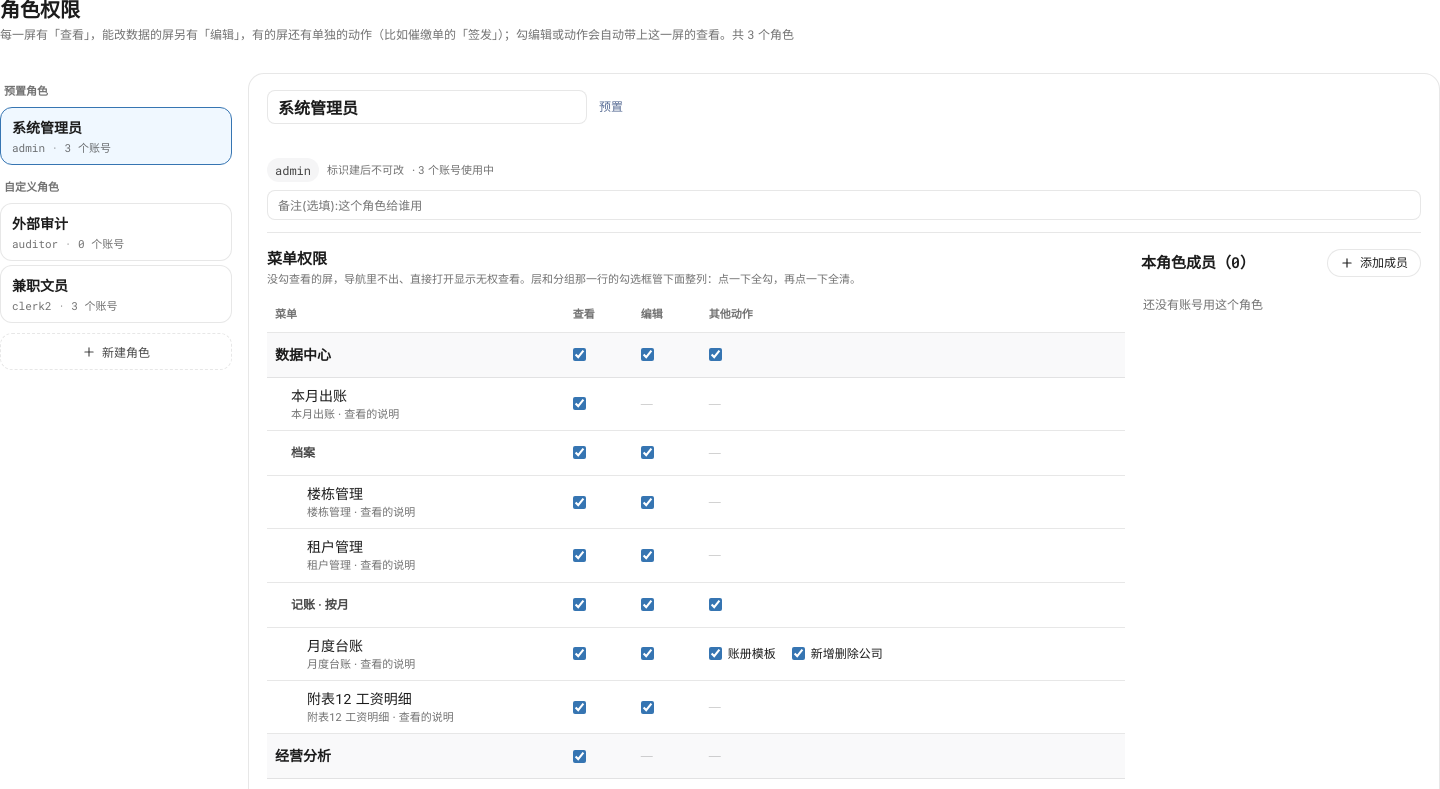
Scenario: 成员栏 › 候选为空:所有账号都已在这个角色里
Click the button with class "sr-item" showing "兼职文员 clerk2 · 3 个账号" at (116, 294), box top-left (0, 265), bottom-right (232, 323)
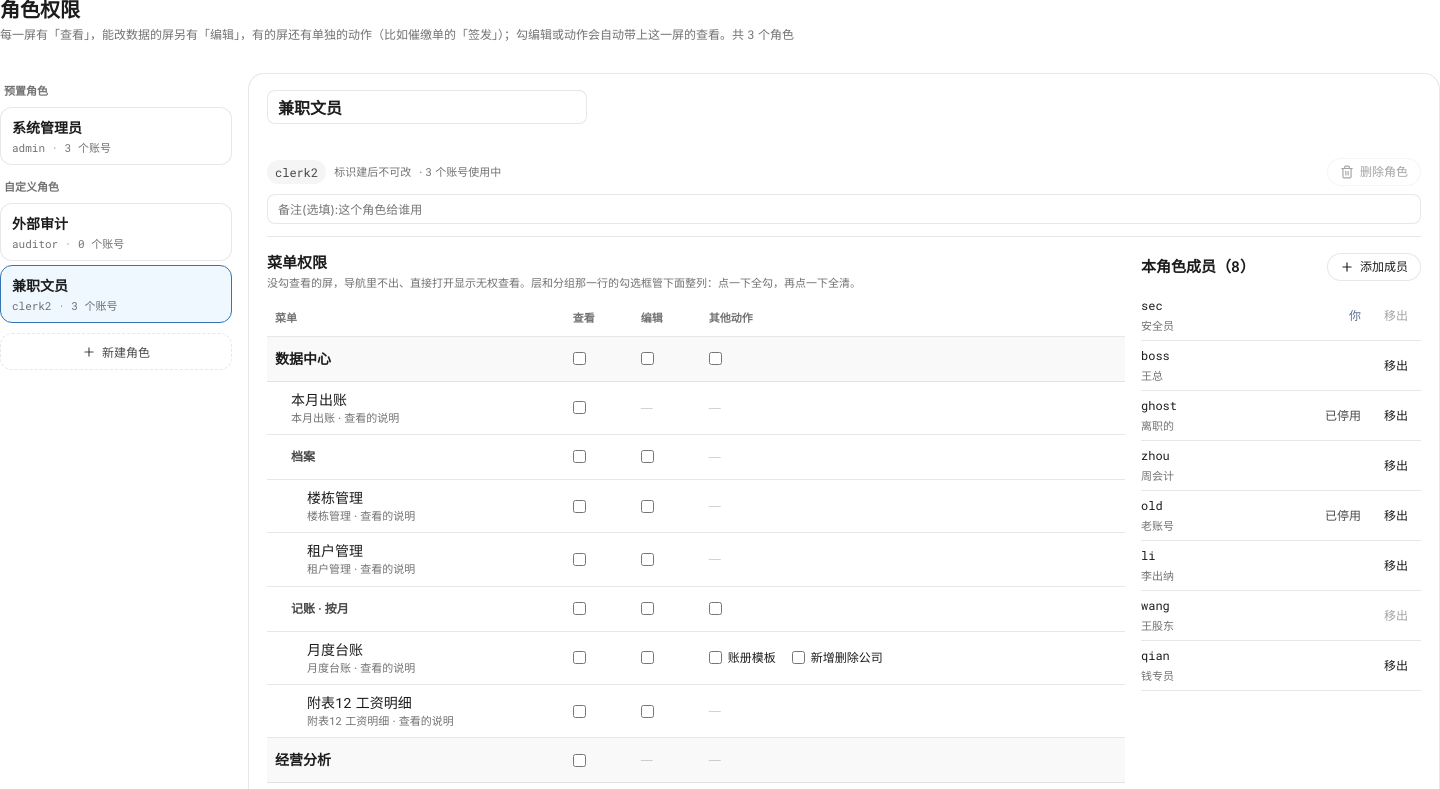
Click the button with class "sr-memadd" at (1374, 267), box top-left (1327, 253), bottom-right (1421, 281)
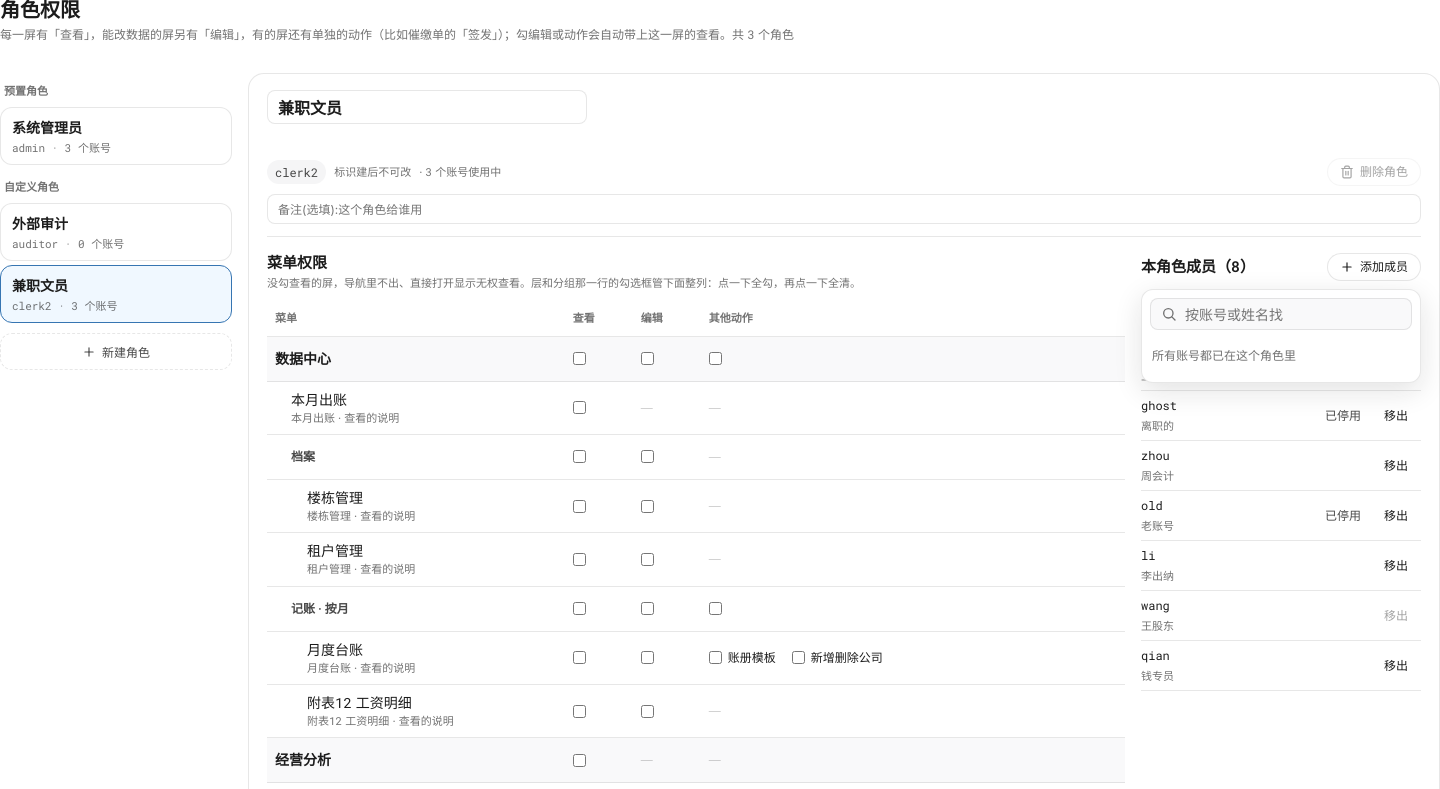
expect the menu with class "sr-cands" reads "所有账号都已在这个角色里": met, box top-left (1152, 348), bottom-right (1296, 363)
